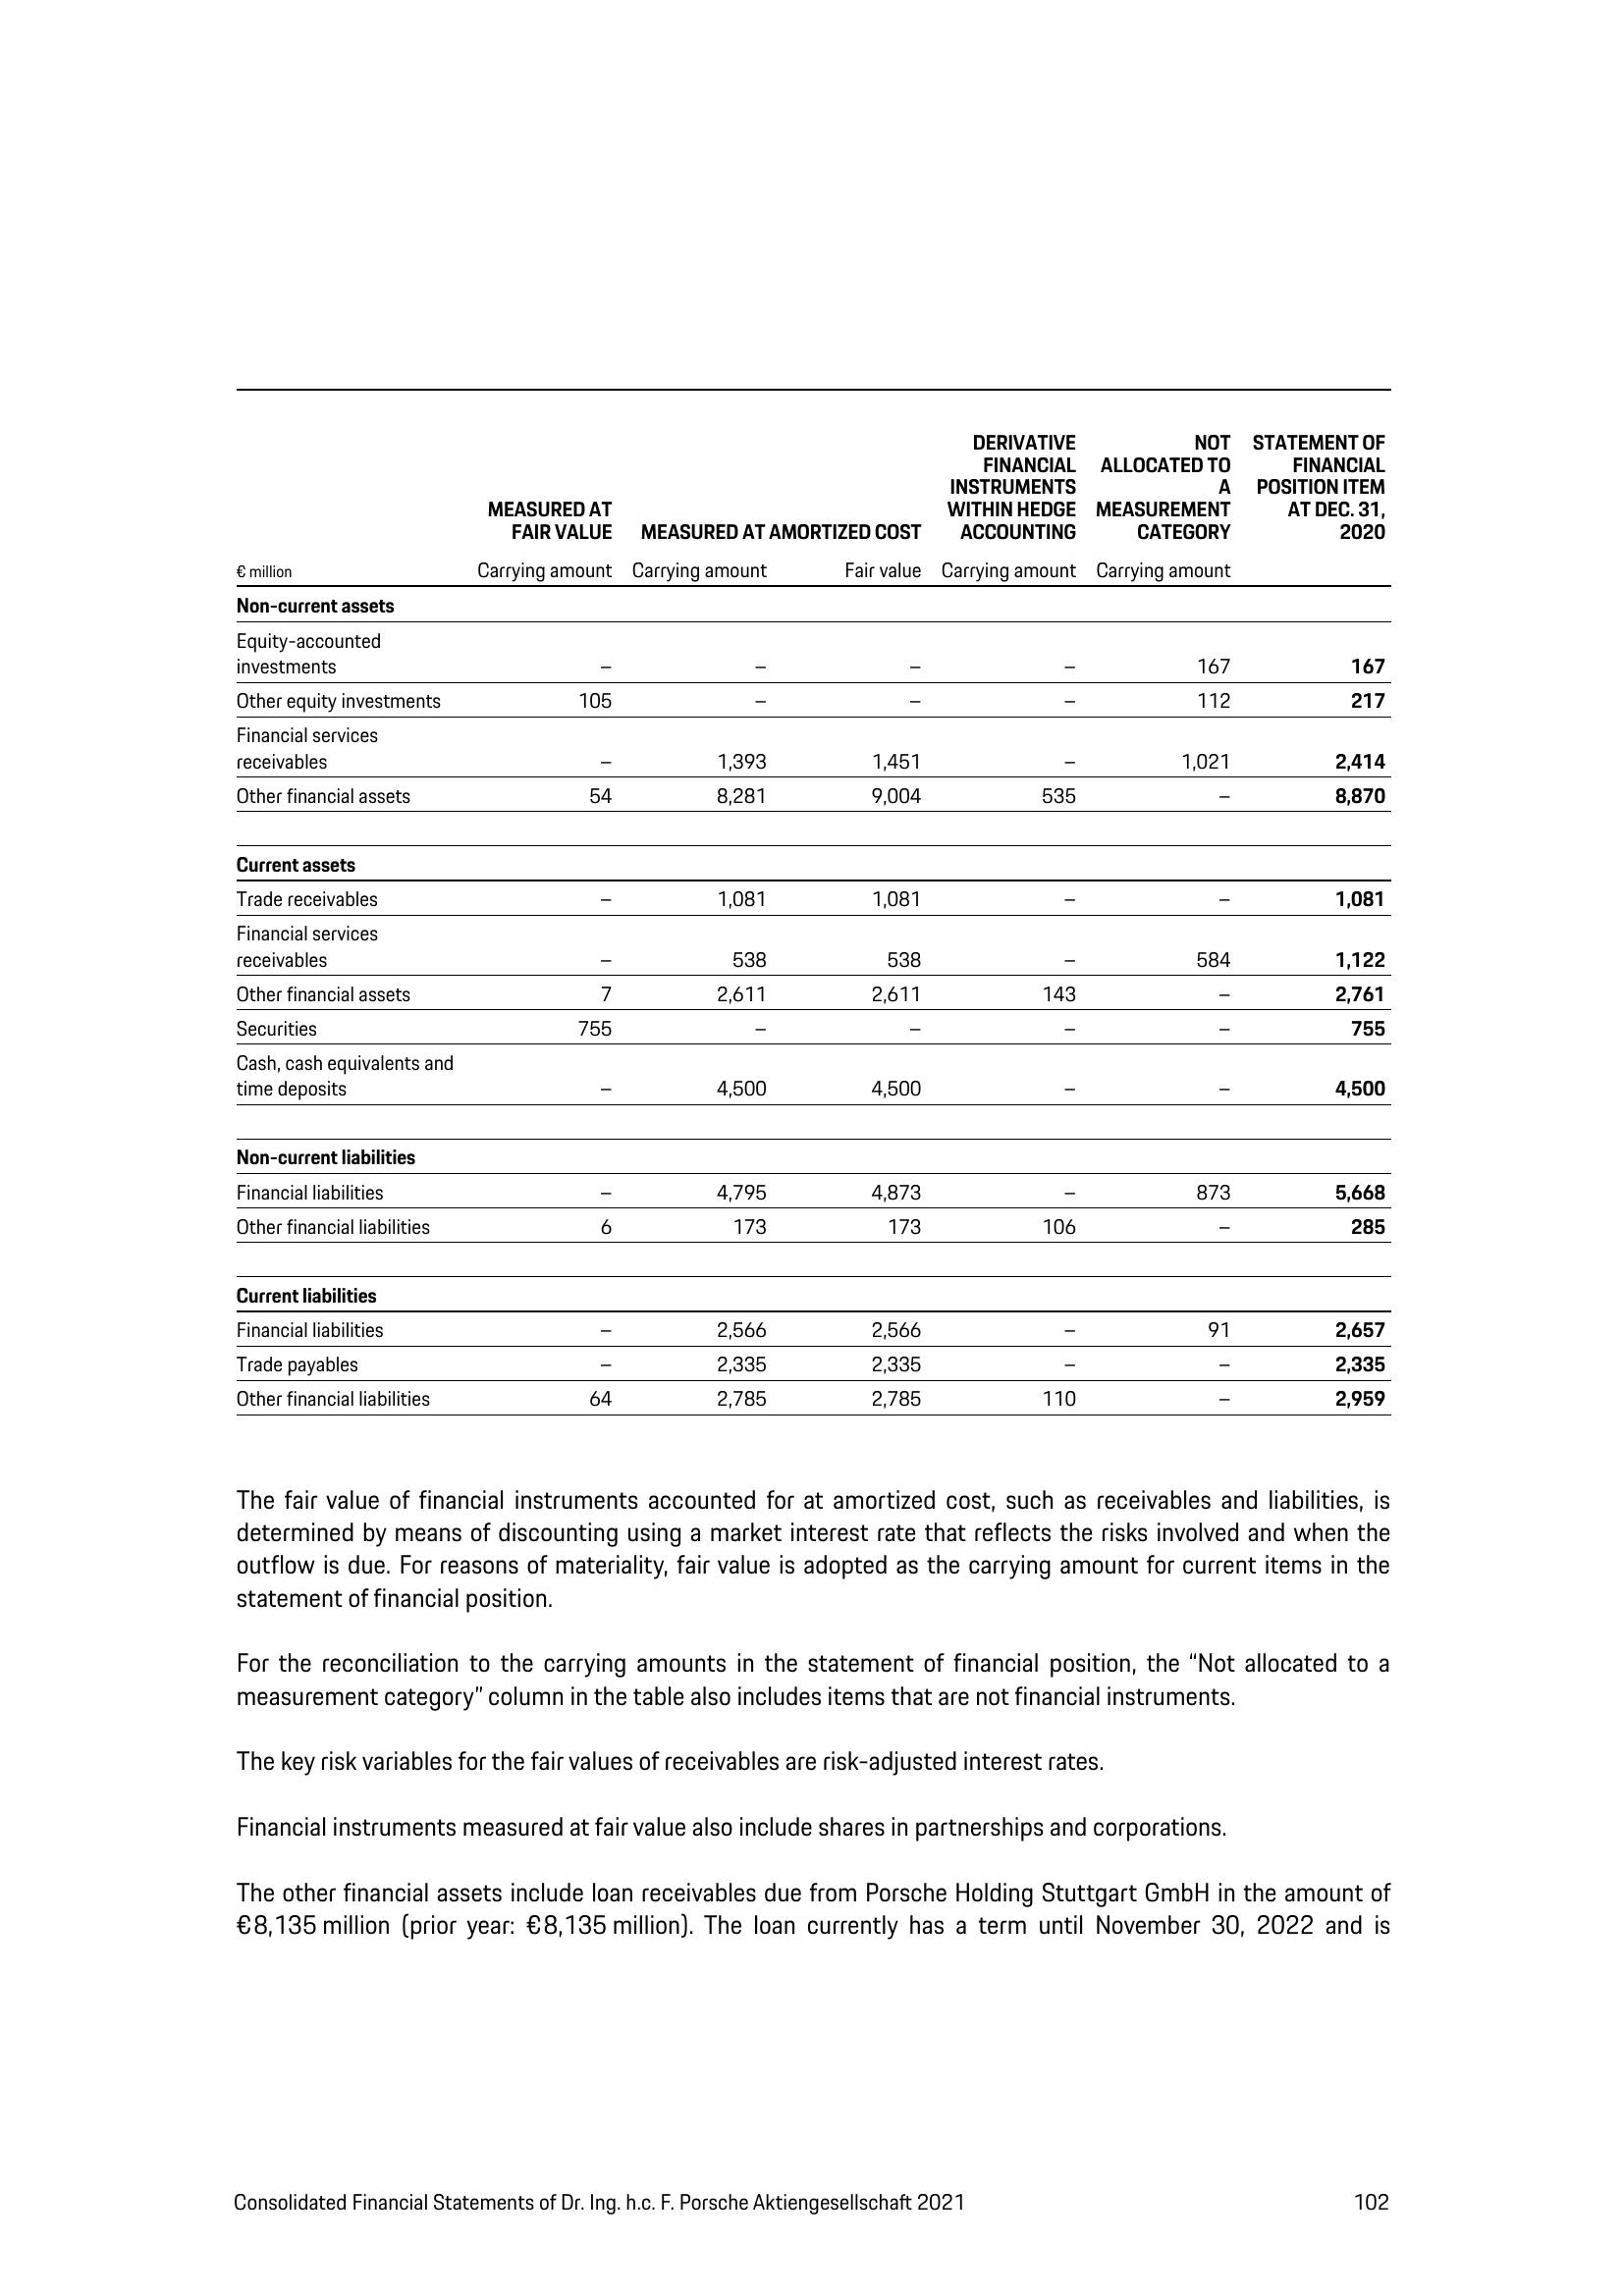Footer: (0, 2131, 1624, 2296)
Header: (0, 0, 1624, 193)
Table: (190, 385, 1446, 1423)
